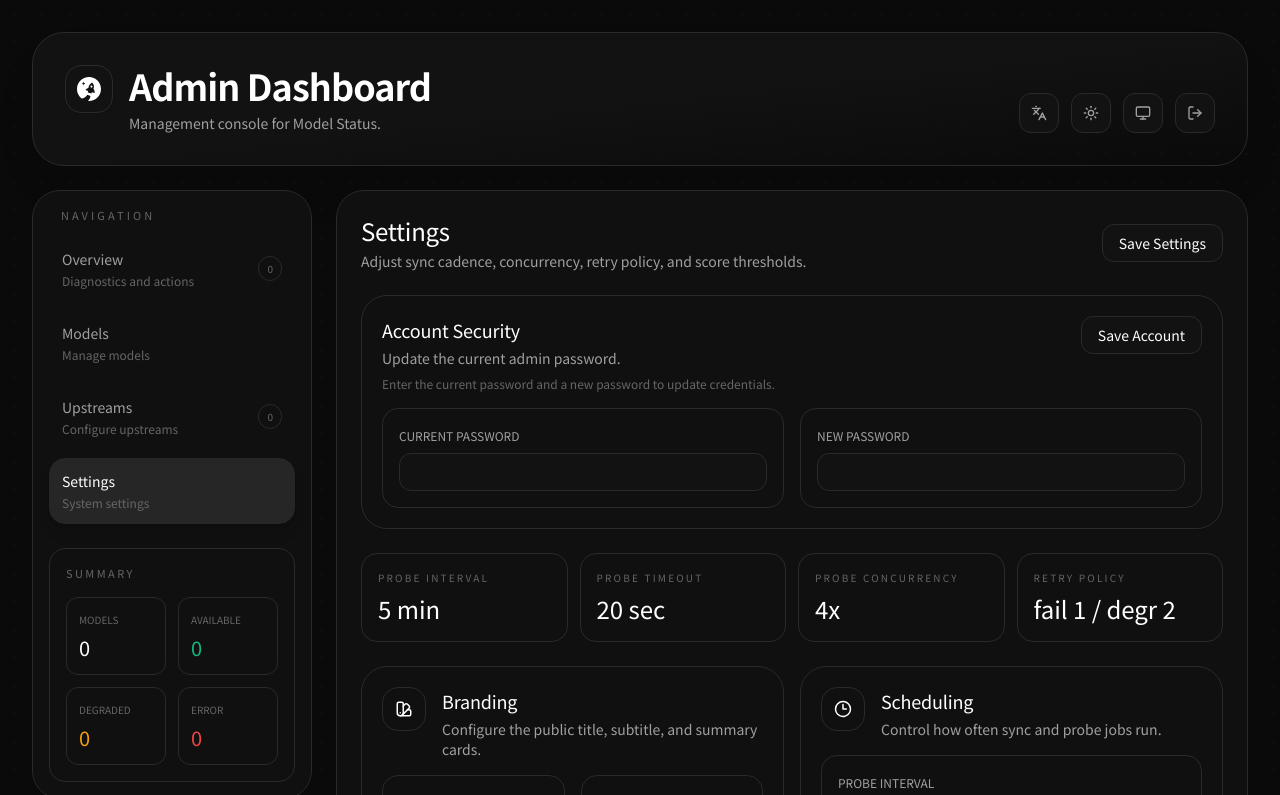
Scenario: AdminPanel › updates the current admin account from runtime settings
The width and height of the screenshot is (1280, 795).
expect the text "Account Security" is shown: met, box 382,317 -> 520,343
Type "password123" into the password field labelled "Current Password". click: (583, 472)
box: 399,453 -> 767,491
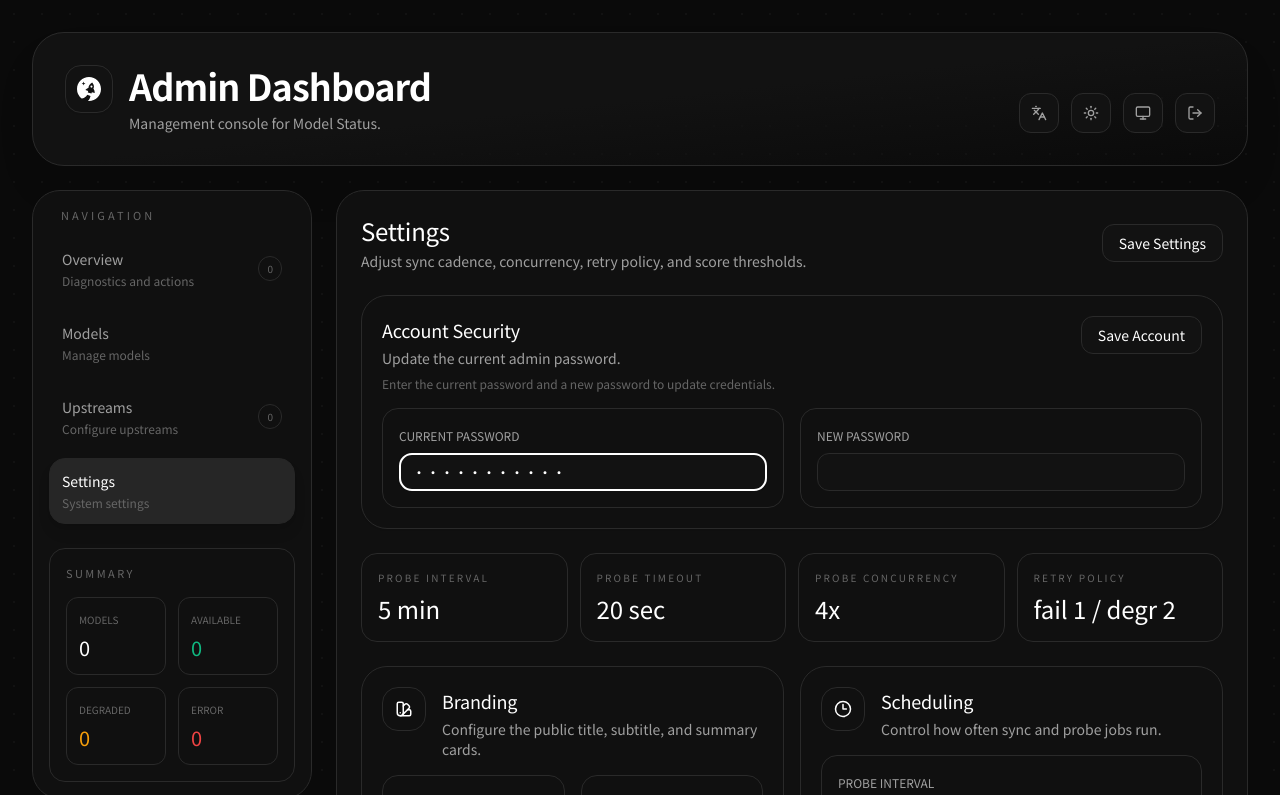
Type "new-password-123" into the password field labelled "New Password". click: (1001, 472)
box: 817,453 -> 1185,491
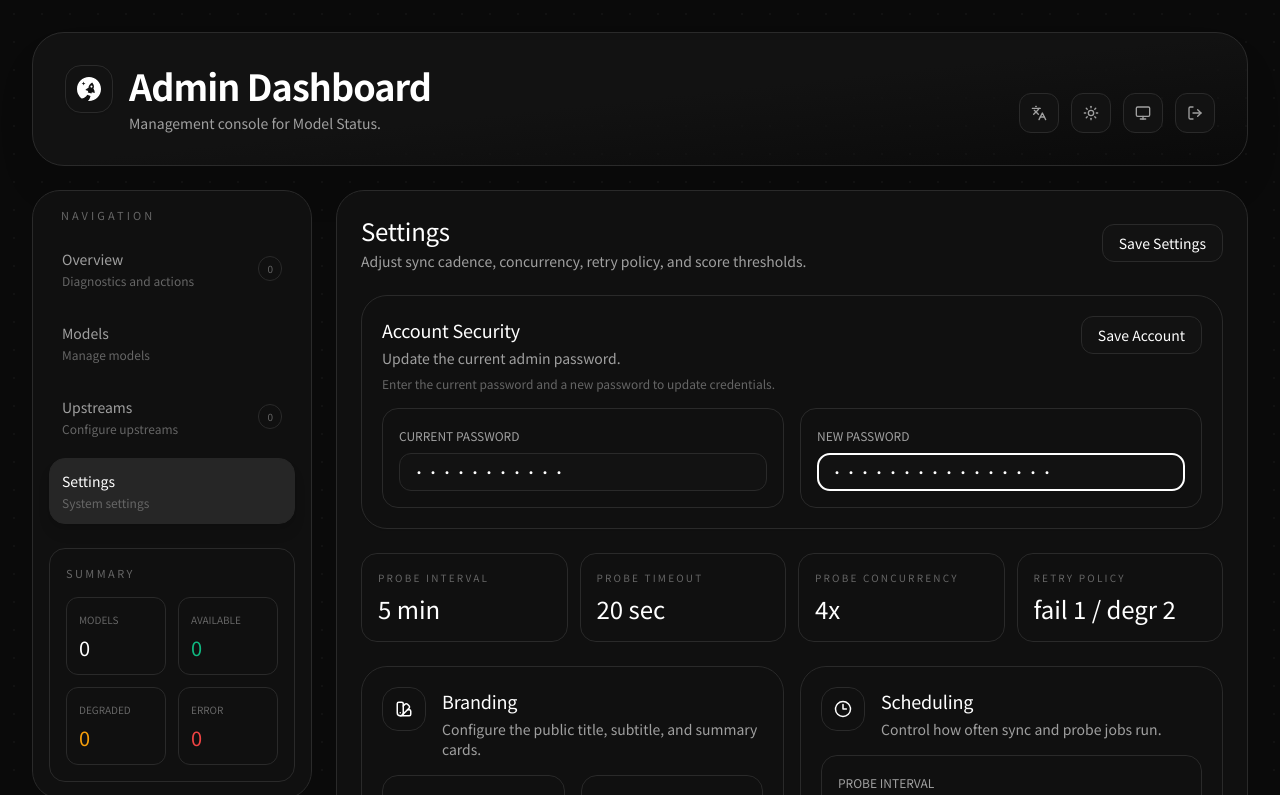
Click the button "Save Account". click: (1141, 335)
box: 1081,316 -> 1202,354
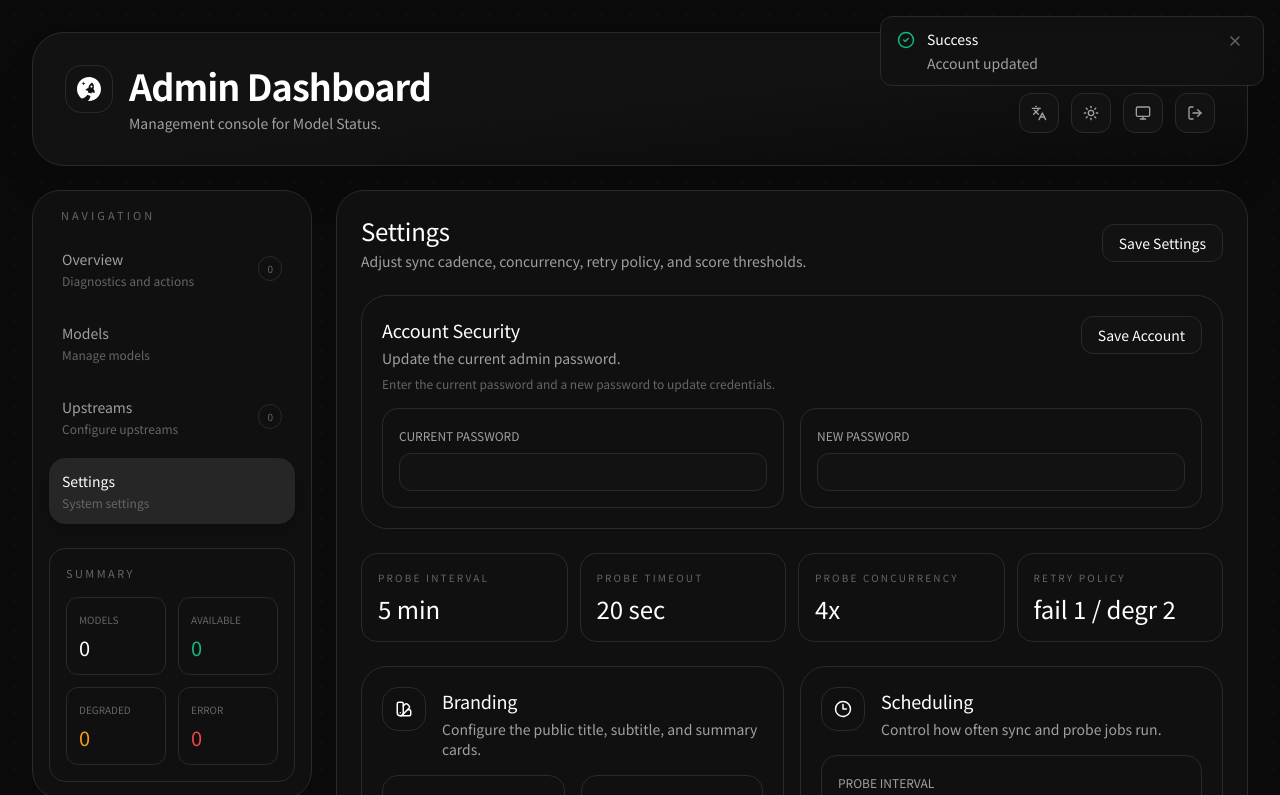
expect the text "Account updated" is shown: met, box 927,53 -> 1038,73
